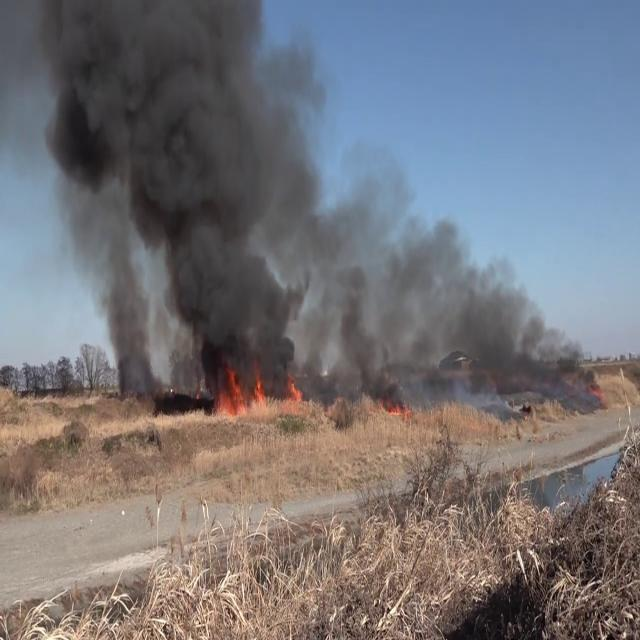Fire: (210, 356, 308, 420), (212, 356, 268, 420)
Smoke: (25, 0, 328, 388), (316, 192, 598, 403)
